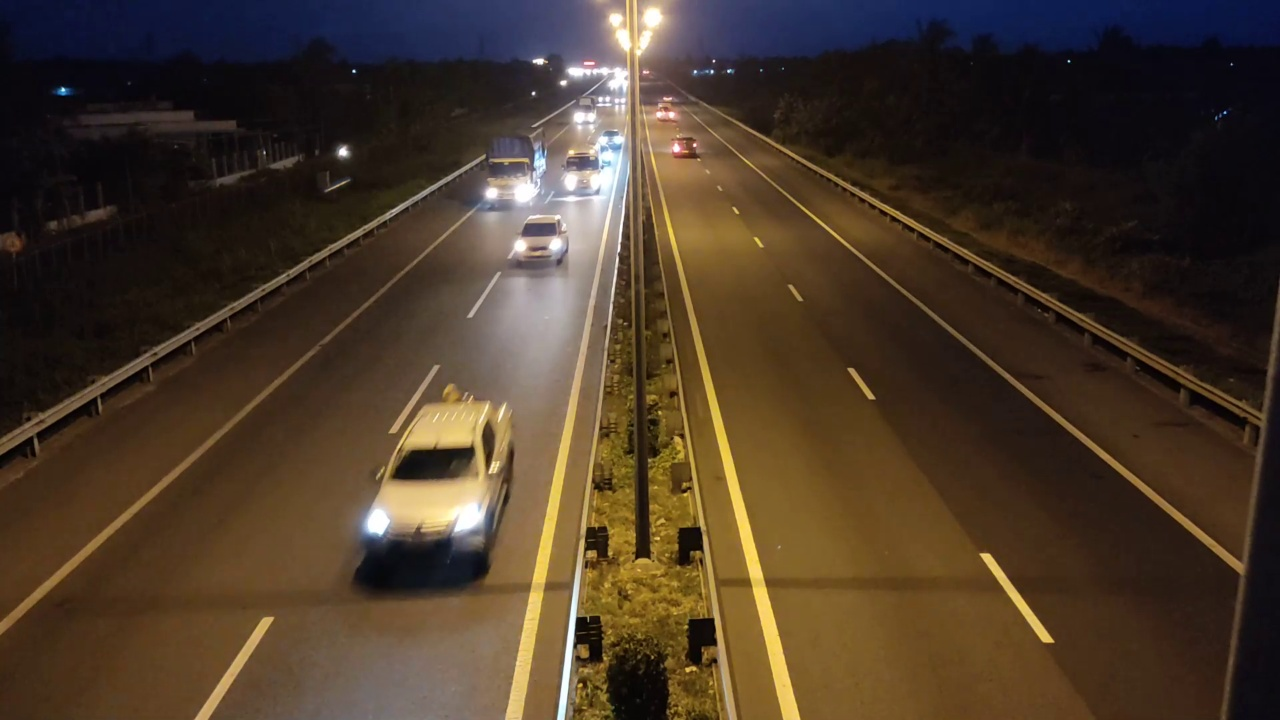car: (507, 214, 569, 269), (669, 135, 701, 158)
